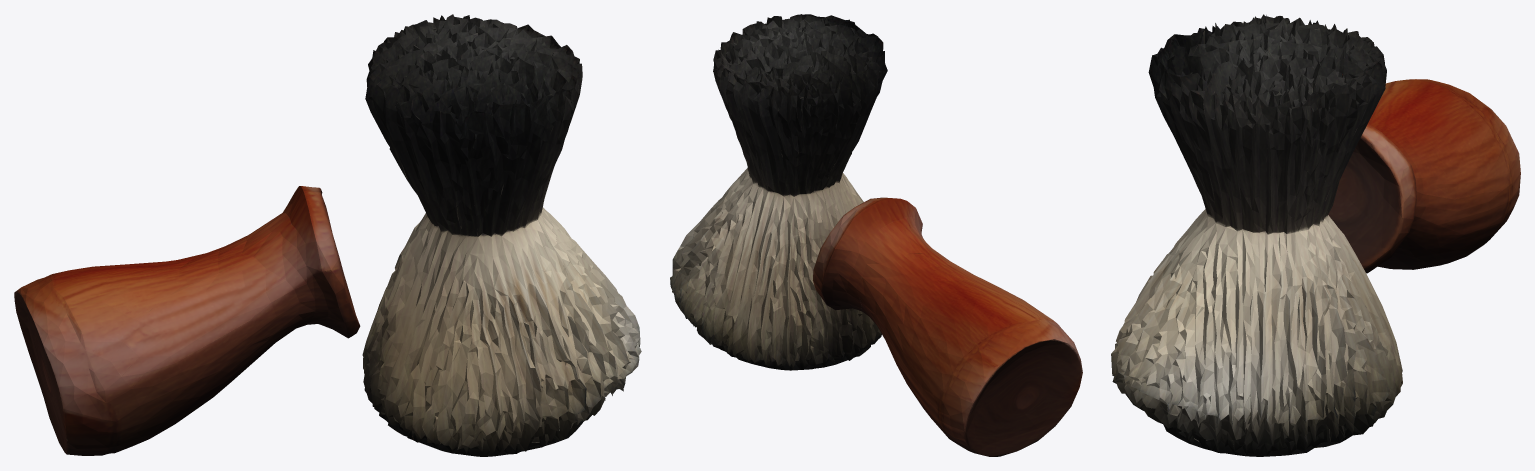
Rendered from wooden-shaving-brush-handle-3d.jpeg.glb.
3 views of the same model, side by side, from view 1: azimuth 30°, elevation 25°; view 2: azimuth 150°, elevation 25°; view 3: azimuth 270°, elevation 25° (orthographic). The views are drawn at different scales.
Visible parts, largest first — view 1: world; view 2: world; view 3: world.
Boxes of the visible parts, left/top/right/bottom form: world: left=14, top=14, right=641, bottom=456; world: left=670, top=14, right=1082, bottom=456; world: left=1111, top=14, right=1520, bottom=456.
Size of the model in its own units: 0.9993 by 0.6864 by 0.6665.
1 material, 1 textured.
